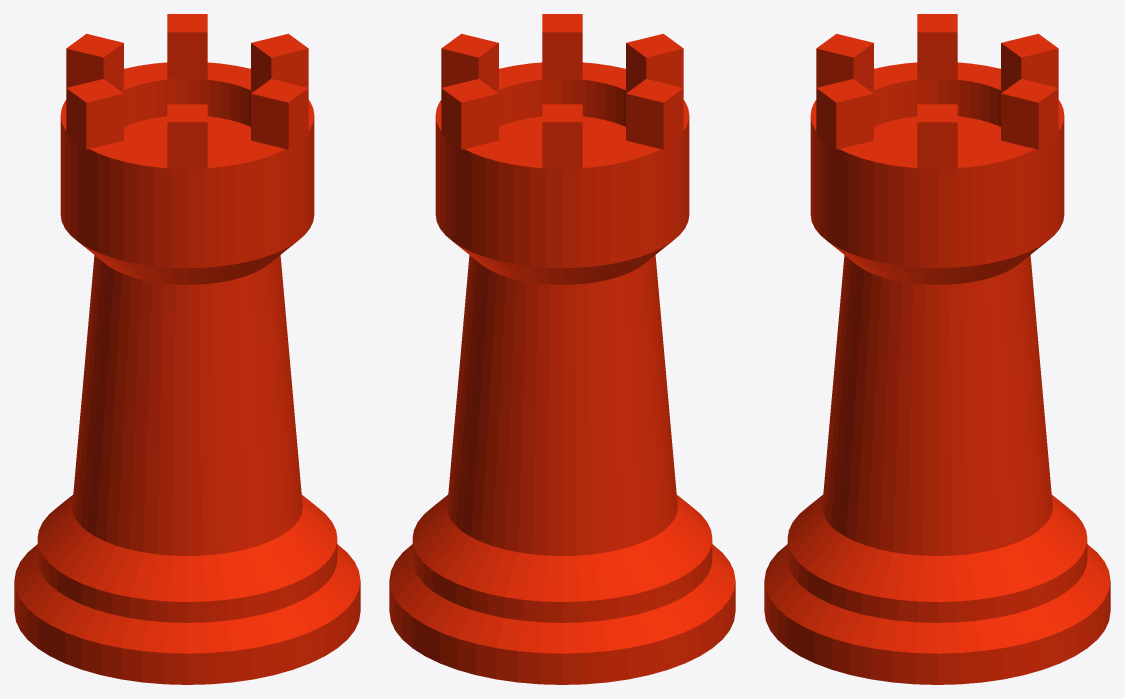
The model's file is torre-ajedrez.glb.
3 renders of one model, left to right at view 1: azimuth 30°, elevation 25°; view 2: azimuth 150°, elevation 25°; view 3: azimuth 270°, elevation 25°, orthographic.
Visible parts, largest first — view 1: torre-ajedrez; view 2: torre-ajedrez; view 3: torre-ajedrez.
Boxes of the visible parts, <box> form: torre-ajedrez: <box>14,14,360,684</box>; torre-ajedrez: <box>389,14,735,684</box>; torre-ajedrez: <box>764,14,1110,684</box>.
Bounding box in the file's own units: 0.09 × 0.156 × 0.09.
